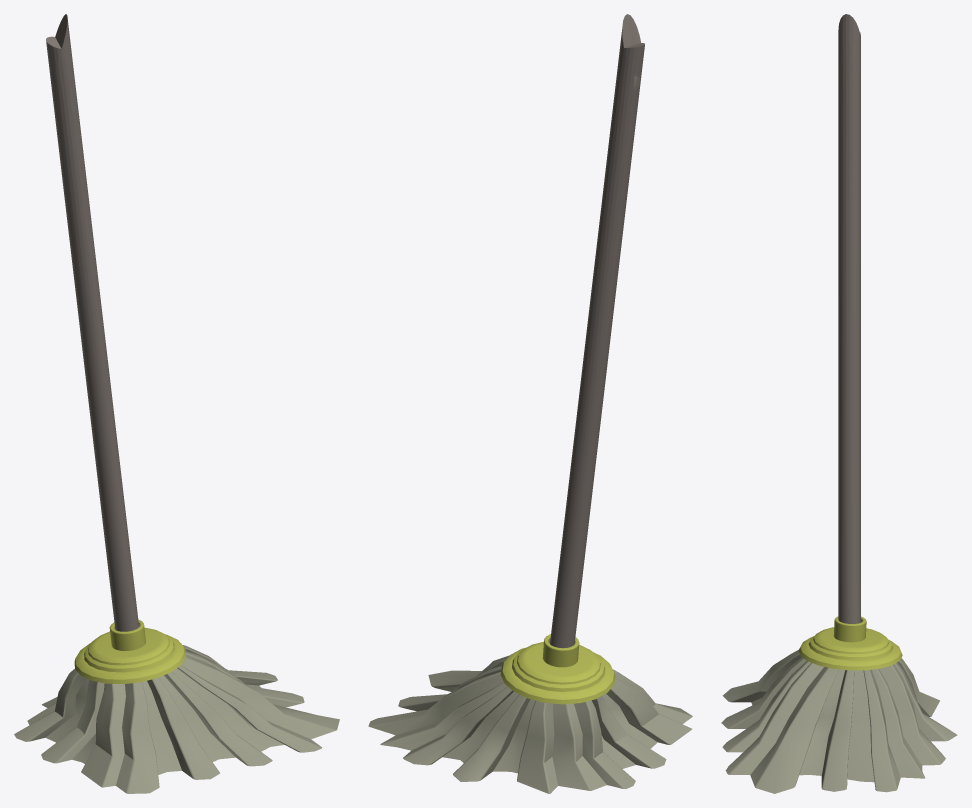
File: mop.fbx
The picture shows the model from 3 angles, left to right: view 1: azimuth 30°, elevation 25°; view 2: azimuth 150°, elevation 25°; view 3: azimuth 270°, elevation 25°; orthographic projection. The views are drawn at different scales.
Visible parts, largest first — view 1: pCube2; view 2: pCube2; view 3: pCube2.
Boxes of the visible parts, left/top/right/bottom form: pCube2: left=14, top=14, right=339, bottom=793; pCube2: left=368, top=14, right=692, bottom=793; pCube2: left=721, top=14, right=957, bottom=793.
Size of the model in its own units: 0.8521 by 2.26 by 0.7185.
